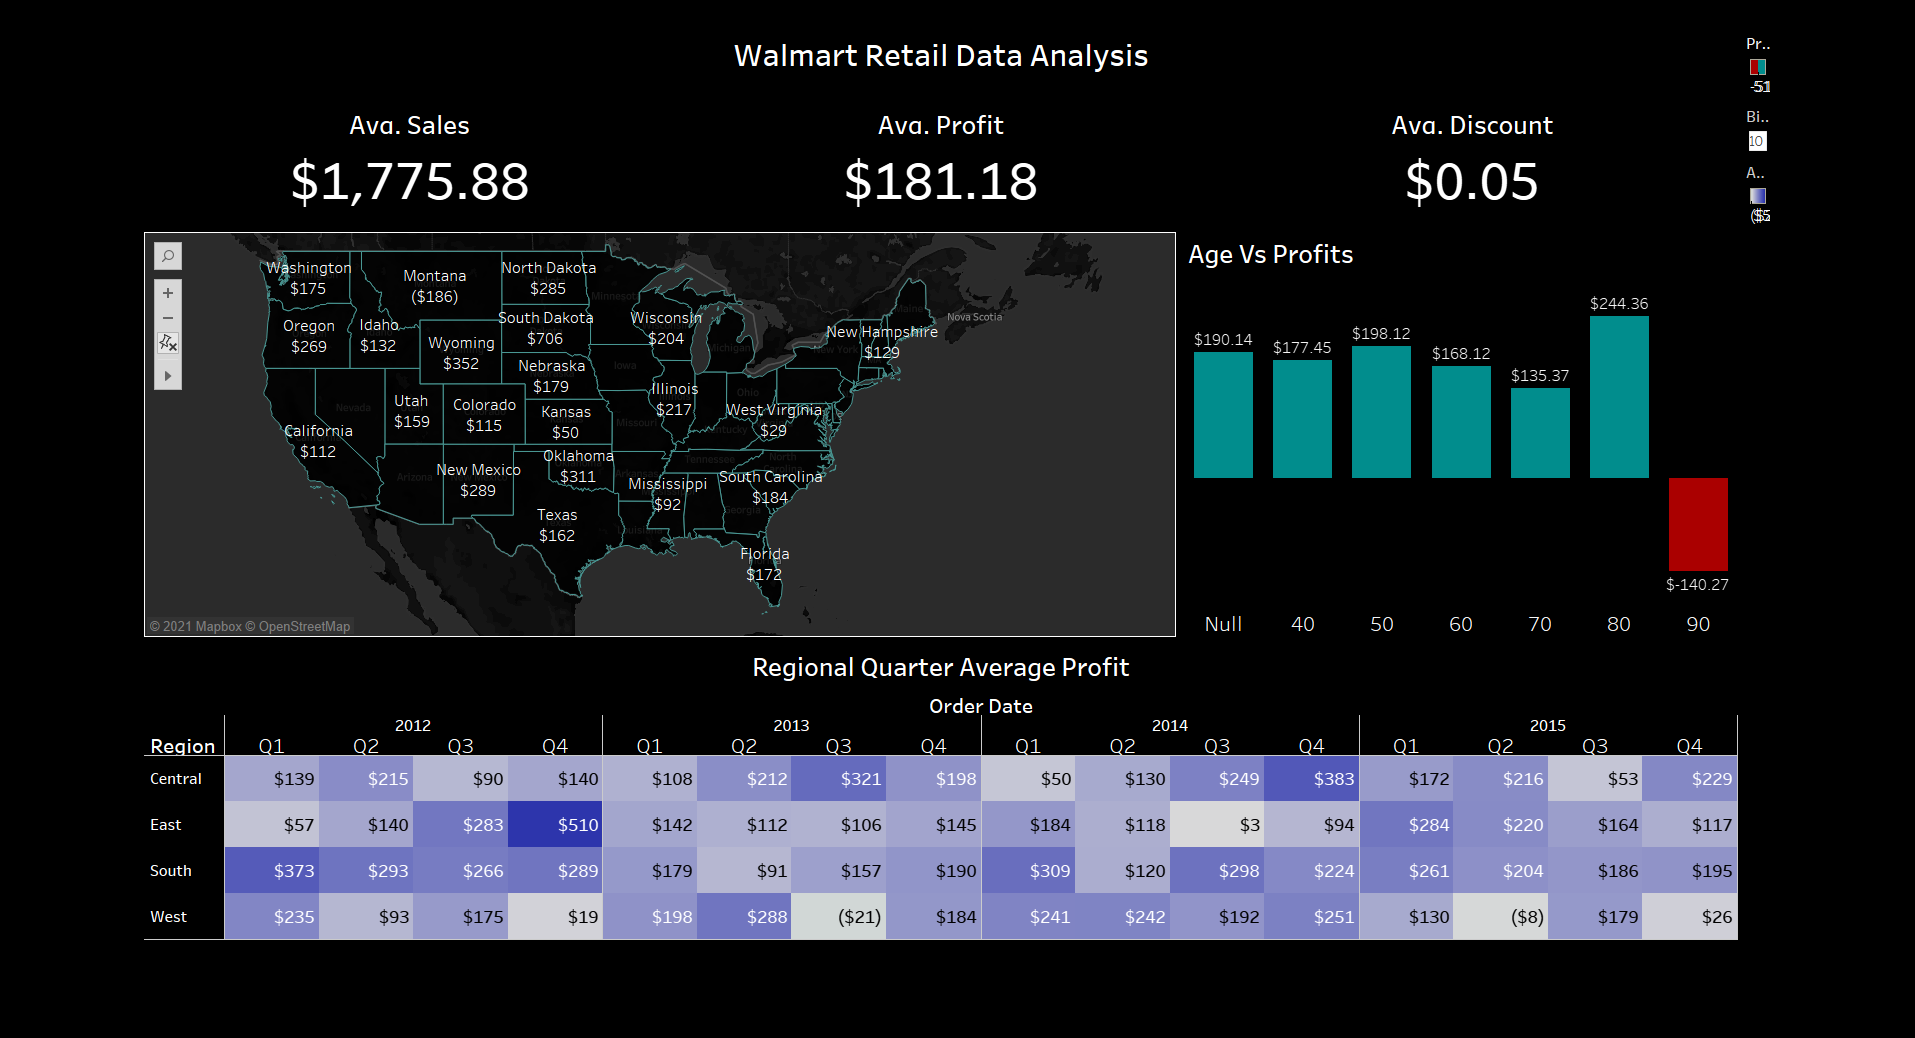

This screenshot's page, from the dashboard's own definition file:
{"tool":"tableau","page":{"name":"Walmart Retail Data Analysis","canvas":[1650,1000],"ordinal":0},"visuals":[{"type":"title","box":[8,8,1602,49]},{"type":"legend","title":"Age Vs Profits","param":"[federated.1u0nxe71af4qj01cftv1z12pyjuo].[sum:Profit:qk]","box":[1610,8,32,73]},{"type":"blank","box":[8,57,1602,32]},{"type":"parameter","param":"[Parameters].[Parameter 1]","box":[1610,81,32,56]},{"type":"worksheet","title":"Average Measure","mark":"Automatic","box":[8,89,1602,118]},{"type":"legend","title":"regional profit","param":"[federated.1u0nxe71af4qj01cftv1z12pyjuo].[avg:Profit:qk]","box":[1610,137,32,73]},{"type":"worksheet","title":"State Vs Profits","mark":"Multipolygon","box":[8,207,1040,413]},{"type":"worksheet","title":"Age Vs Profits","mark":"Automatic","rows":["Profit"],"cols":["Customer Age (bin)"],"box":[1048,207,562,413]},{"type":"worksheet","title":"regional profit","mark":"Square","rows":["Region"],"cols":["Order Date","Order Date"],"box":[8,620,1602,340]},{"type":"blank","box":[8,960,1602,32]}]}

Visuals, with their boxes on the page's 1650x1000 design canvas (x1, y1, x2, y2). These are canvas units, not pixel positions in the 1915x1038 screenshot, which may show the page scaled, cropped or inside an application window:
title: 8/8/1610/57
"Age Vs Profits" legend: 1610/8/1642/81
blank: 8/57/1610/89
parameter: 1610/81/1642/137
"Average Measure" worksheet: 8/89/1610/207
"regional profit" legend: 1610/137/1642/210
"State Vs Profits" worksheet (Multipolygon marks): 8/207/1048/620
"Age Vs Profits" worksheet: 1048/207/1610/620
"regional profit" worksheet (Square marks): 8/620/1610/960
blank: 8/960/1610/992
